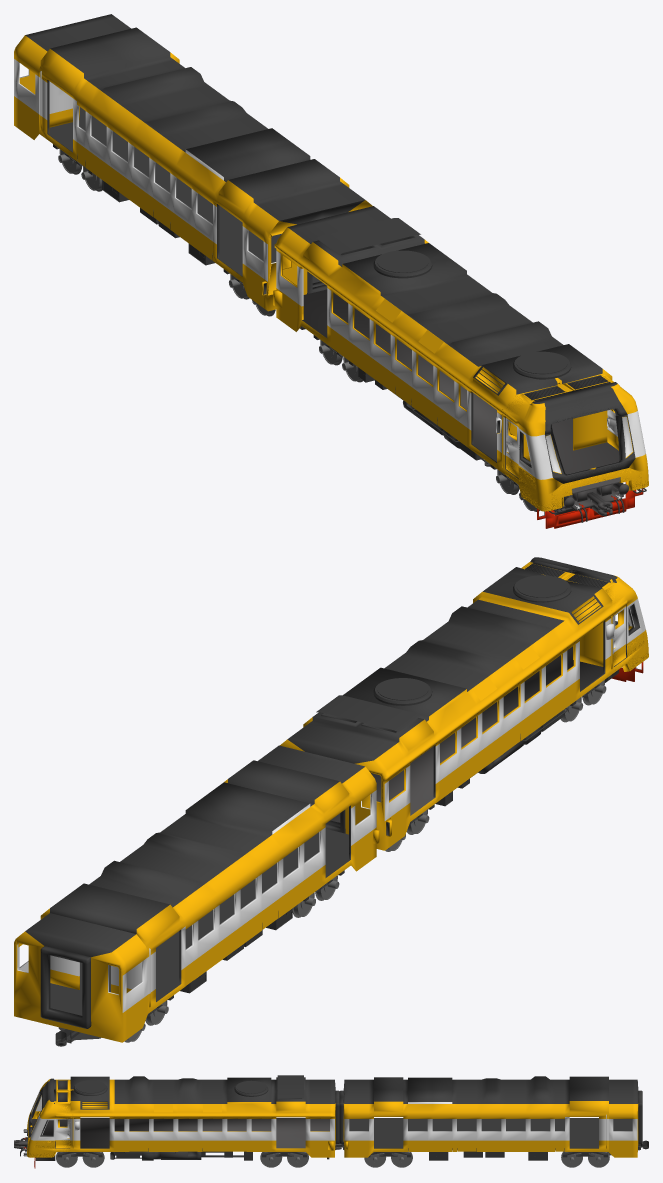
Rendered from Train.fbx.
The picture shows the model from 3 angles, top to bottom: view 1: azimuth 30°, elevation 25°; view 2: azimuth 150°, elevation 25°; view 3: azimuth 270°, elevation 25°; orthographic projection. The views are drawn at different scales.
Visible parts, largest first — view 1: body, body.001, fleet, fleet.001, Side_down, THNG_down; view 2: body.001, body, fleet.001, fleet, Side_down, THNG_down, THNG_down.002; view 3: body.001, body, fleet, fleet.001, THNG_down, Side_down, THNG_down.002, wheel.001, wheel.007, wheel.005, wheel.003, wheel.006 (+6 smaller).
Part boxes in pixels (x1,y1,x2,y2): body: (273, 206, 648, 511); body.001: (14, 14, 372, 311); fleet: (300, 289, 643, 528); fleet.001: (48, 107, 320, 283); Side_down: (373, 250, 571, 379); THNG_down: (358, 367, 490, 466); body.001: (14, 745, 379, 1042); body: (280, 557, 648, 850); fleet.001: (50, 829, 350, 1046); fleet: (330, 646, 643, 822); Side_down: (373, 575, 571, 705); THNG_down: (435, 710, 563, 806); THNG_down.002: (180, 908, 292, 993); body.001: (339, 1076, 642, 1157); body: (27, 1075, 339, 1157); fleet: (14, 1118, 341, 1168); fleet.001: (337, 1118, 648, 1155); THNG_down: (110, 1150, 252, 1160); Side_down: (73, 1080, 268, 1155); THNG_down.002: (429, 1150, 547, 1160); wheel.001: (82, 1152, 104, 1167); wheel.007: (561, 1150, 582, 1167); wheel.005: (391, 1150, 412, 1167); wheel.003: (260, 1152, 282, 1167); wheel.006: (588, 1152, 609, 1167).
Bounding box in the file's own units: 7.96 × 8.2 × 64.83.
